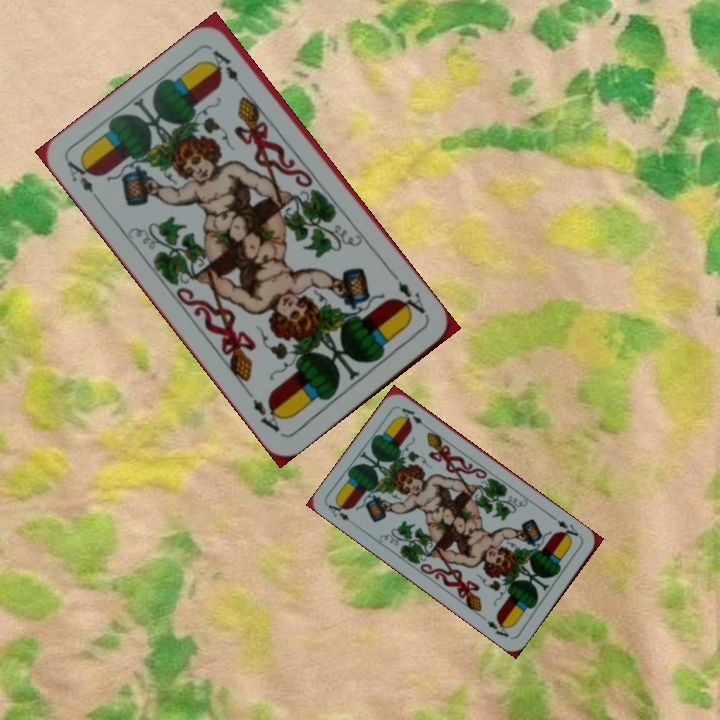EA: (63, 153, 105, 206), (389, 271, 431, 321), (549, 512, 584, 544), (324, 496, 352, 524)
